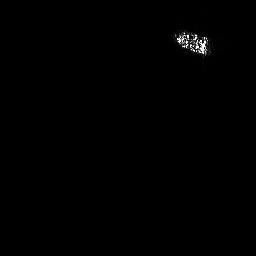ship: (172, 27, 212, 58)
